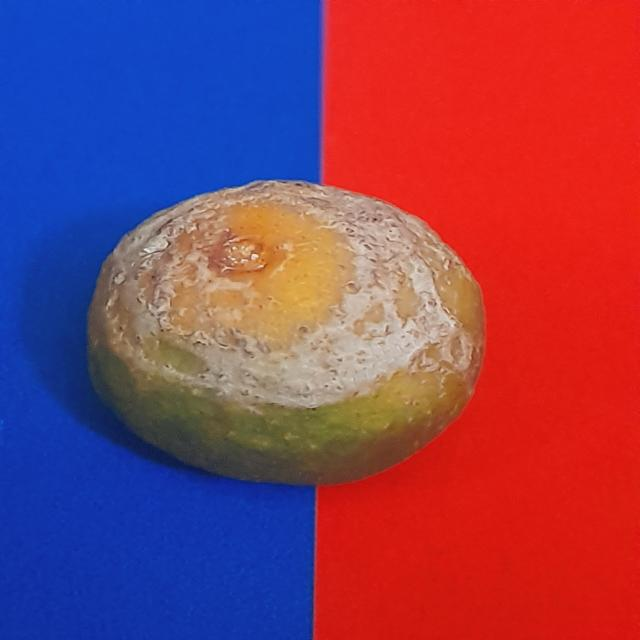thrips: (77, 170, 490, 500)
